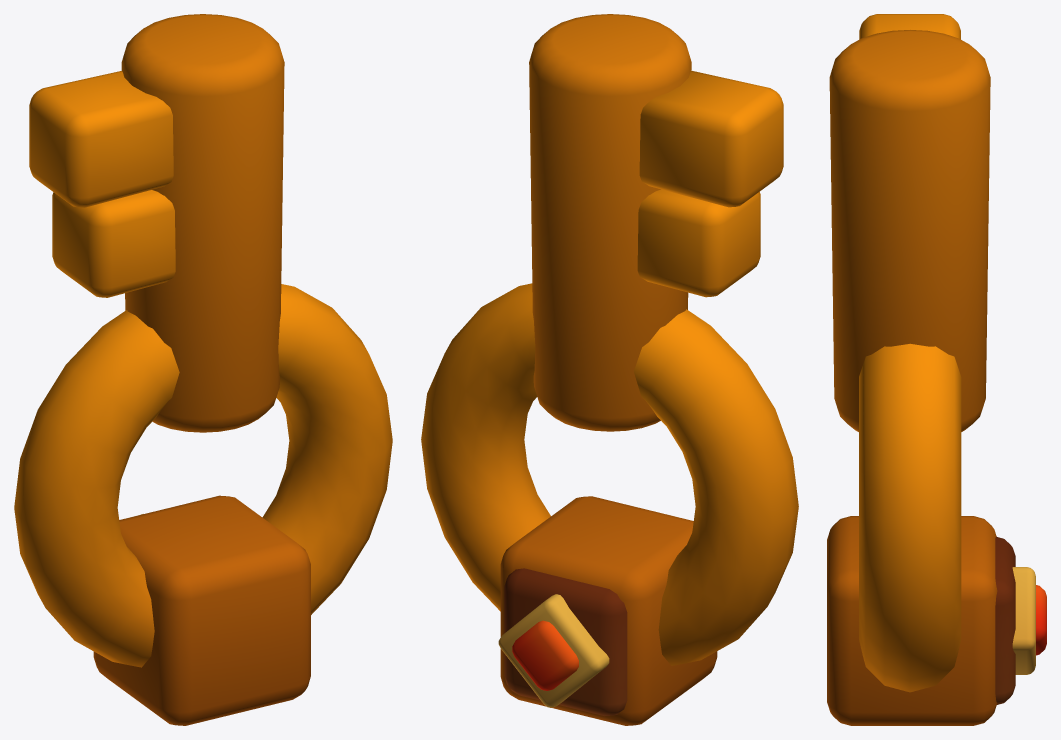
File: Key_V3_0.fbx
3 renders of one model, left to right at view 1: azimuth 30°, elevation 25°; view 2: azimuth 150°, elevation 25°; view 3: azimuth 270°, elevation 25°, orthographic.
Parts seen in each view (by area): view 1: Key_V3_0; view 2: Key_V3_0; view 3: Key_V3_0.
Boxes of the visible parts, <box> form: Key_V3_0: <box>14,14,392,725</box>; Key_V3_0: <box>421,14,798,725</box>; Key_V3_0: <box>827,14,1046,725</box>.
Bounding box in the file's own units: 0.2821 × 0.4802 × 0.1489.
